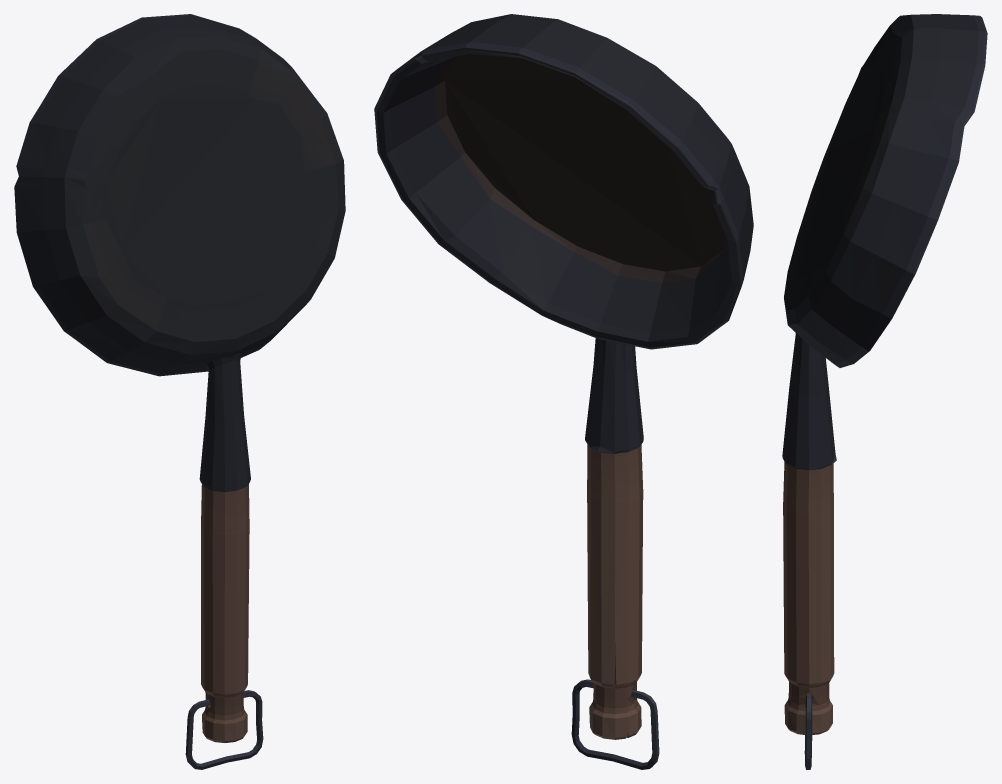
Rendered from bluntLightFryingPan.glb.
The picture shows the model from 3 angles, left to right: view 1: azimuth 30°, elevation 25°; view 2: azimuth 150°, elevation 25°; view 3: azimuth 270°, elevation 25°; orthographic projection. The views are drawn at different scales.
Visible parts, largest first — view 1: bluntLightFryingPan; view 2: bluntLightFryingPan; view 3: bluntLightFryingPan.
Boxes of the visible parts, x1,y1,x2,y2 form: bluntLightFryingPan: (14,14,345,769); bluntLightFryingPan: (374,14,753,769); bluntLightFryingPan: (782,14,987,769).
Bounding box in the file's own units: 0.3436 × 0.7149 × 0.1826.
